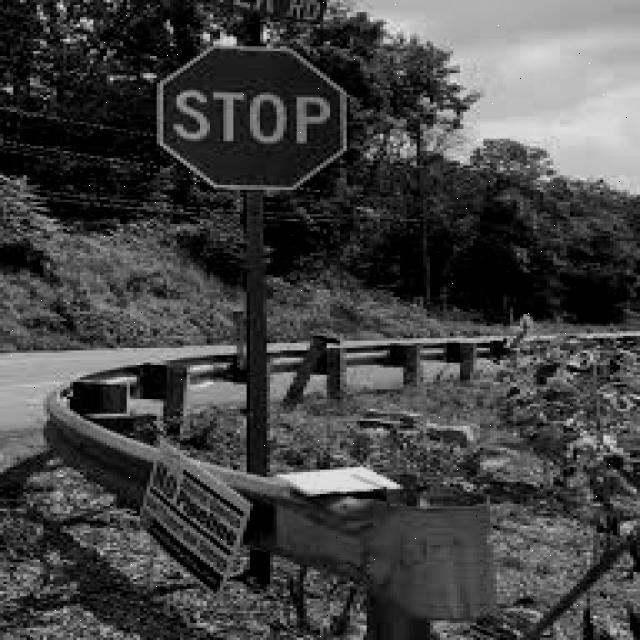stop sign: (154, 42, 352, 192)
